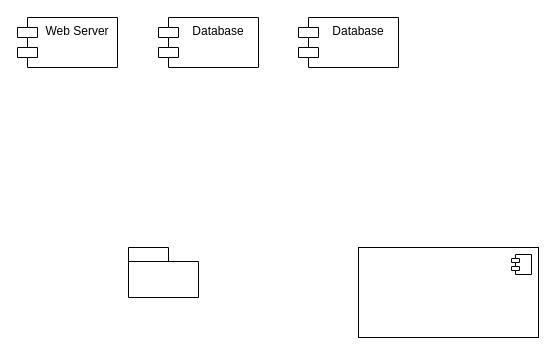
This 556x355 diagram has some shape labels left out. The shapes that lost their labels are listed below. From the top down, each one's centre as x and y in pixels, then its label:
At (163,272): "package".
At (448,292): "Data: Video Comment User".
